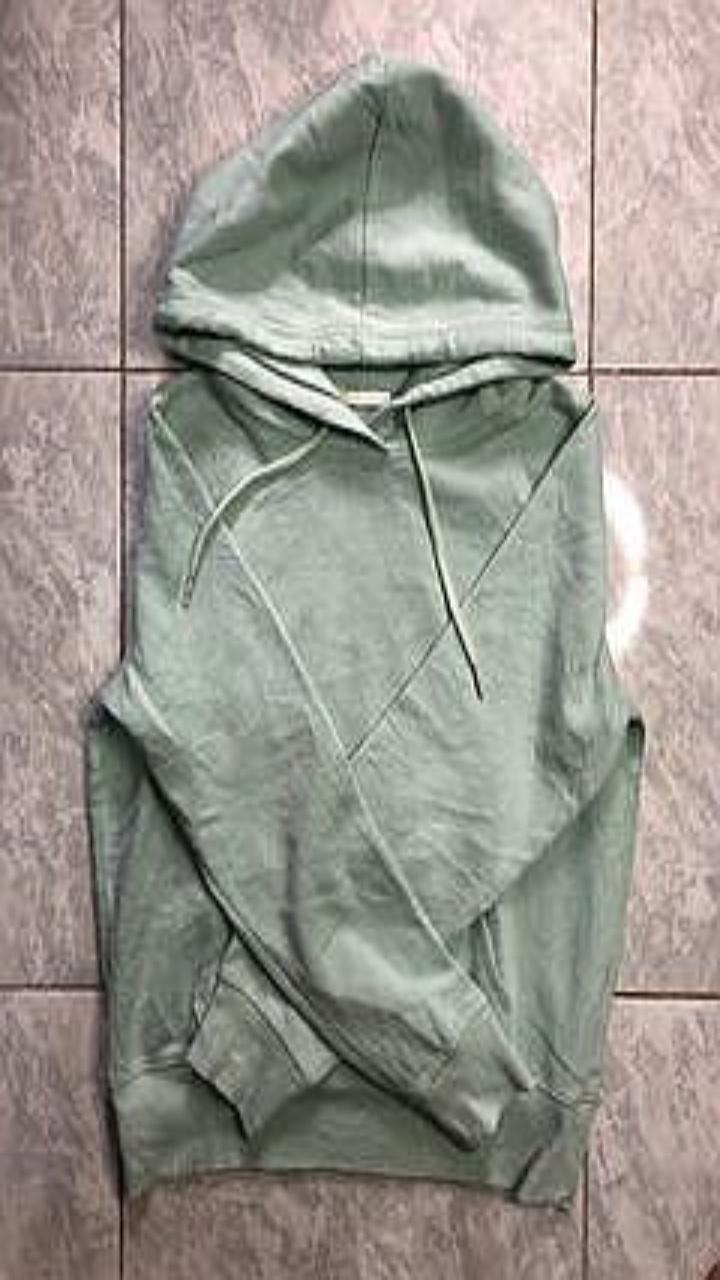Hoodie: (87, 52, 644, 1204)
